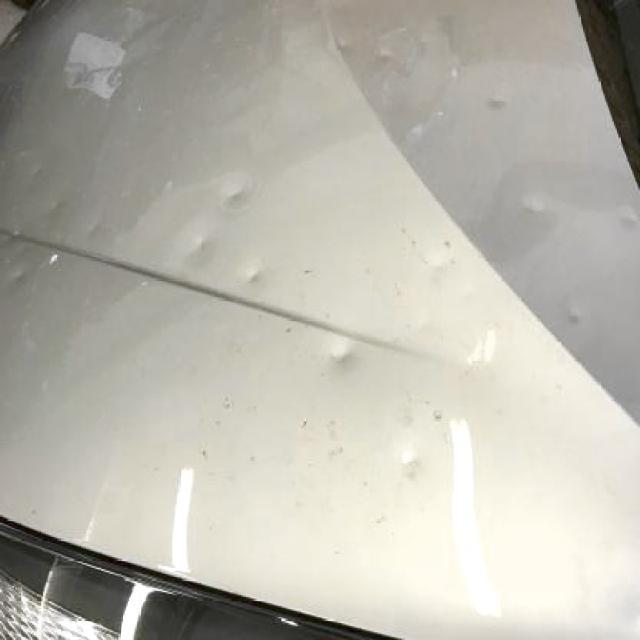dent: (217, 177, 252, 211), (398, 451, 424, 480), (524, 193, 550, 216), (329, 343, 354, 366), (615, 208, 640, 229), (188, 232, 210, 255), (430, 257, 448, 285), (563, 302, 582, 328), (243, 262, 263, 286), (12, 268, 30, 286), (86, 220, 102, 238), (48, 198, 64, 212)
